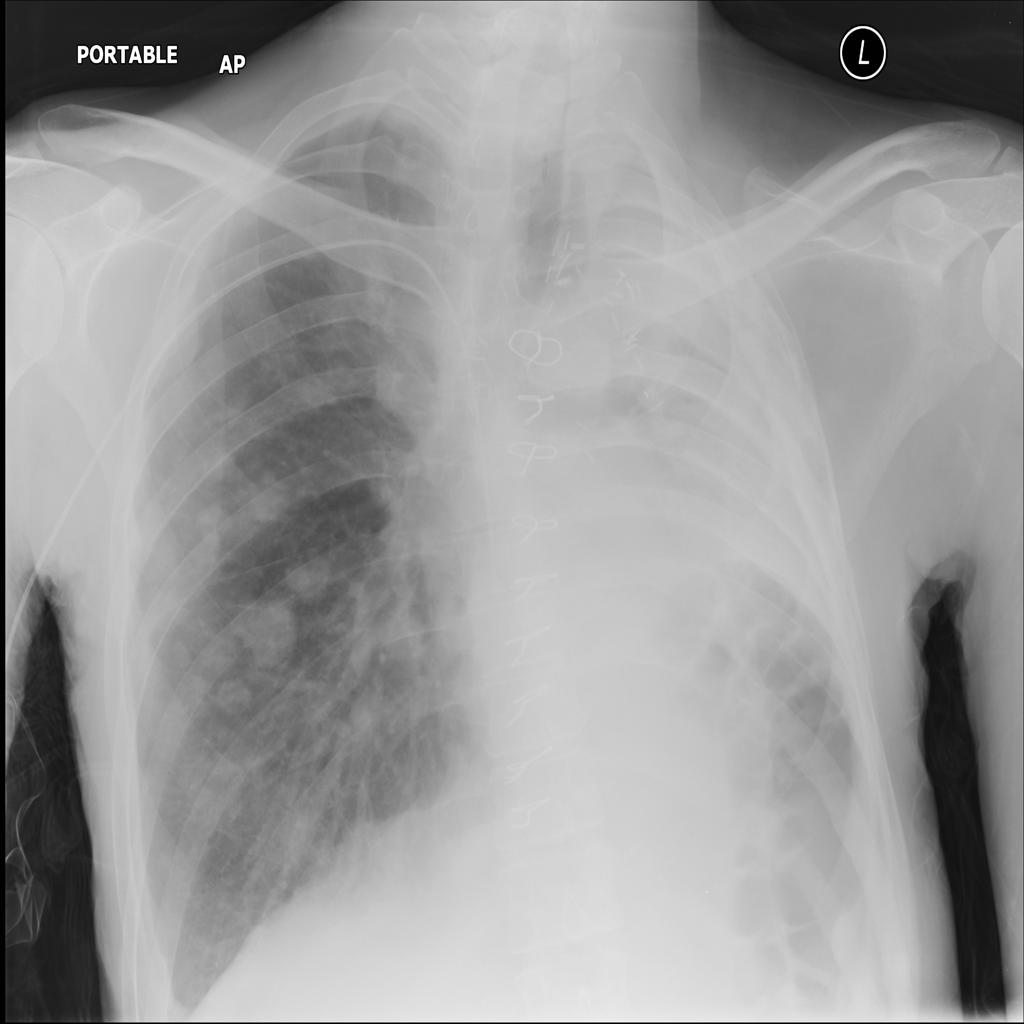nodule: (227, 585, 305, 673), (180, 482, 252, 556), (234, 460, 300, 536), (274, 543, 340, 614), (209, 671, 259, 728), (157, 624, 204, 677)
